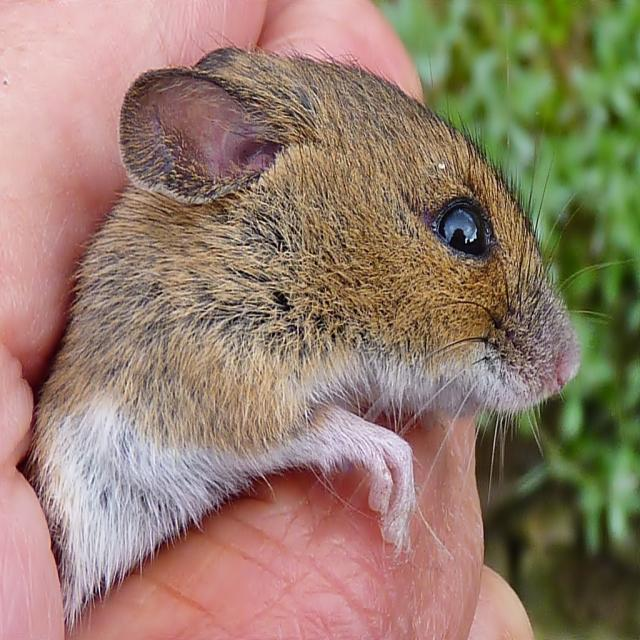rat: (23, 34, 623, 631)
